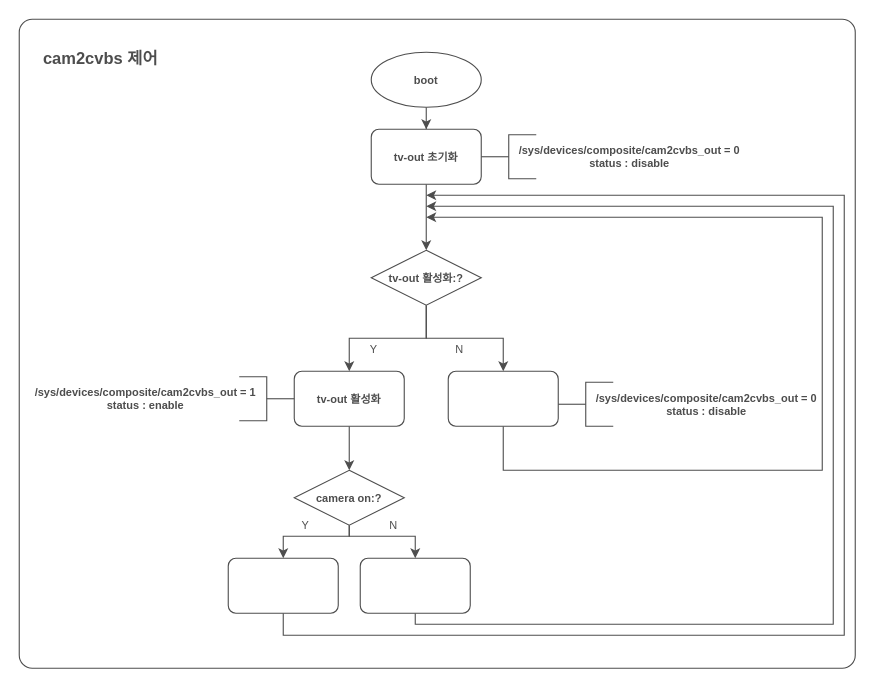
This 875x688 diagram has some shape labels left out. Here are the shapes that lost their labels. From the top down, the centre of each, then its label:
point (502, 398): tv-out 비 활성화
point (282, 585): camera preview 데이터 tv-out 출력
point (414, 585): black 데이터 tv-out 출력
